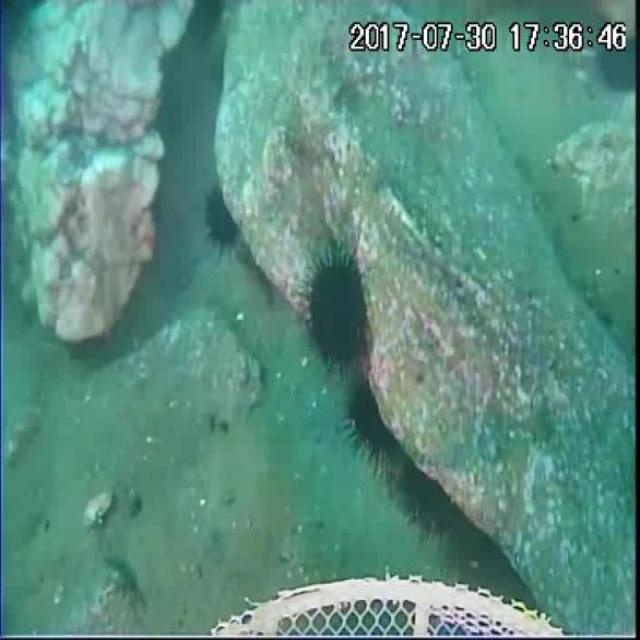echinus: (308, 250, 372, 370), (347, 380, 411, 469), (399, 460, 466, 540), (598, 25, 640, 99), (203, 184, 240, 251), (183, 0, 224, 51)
